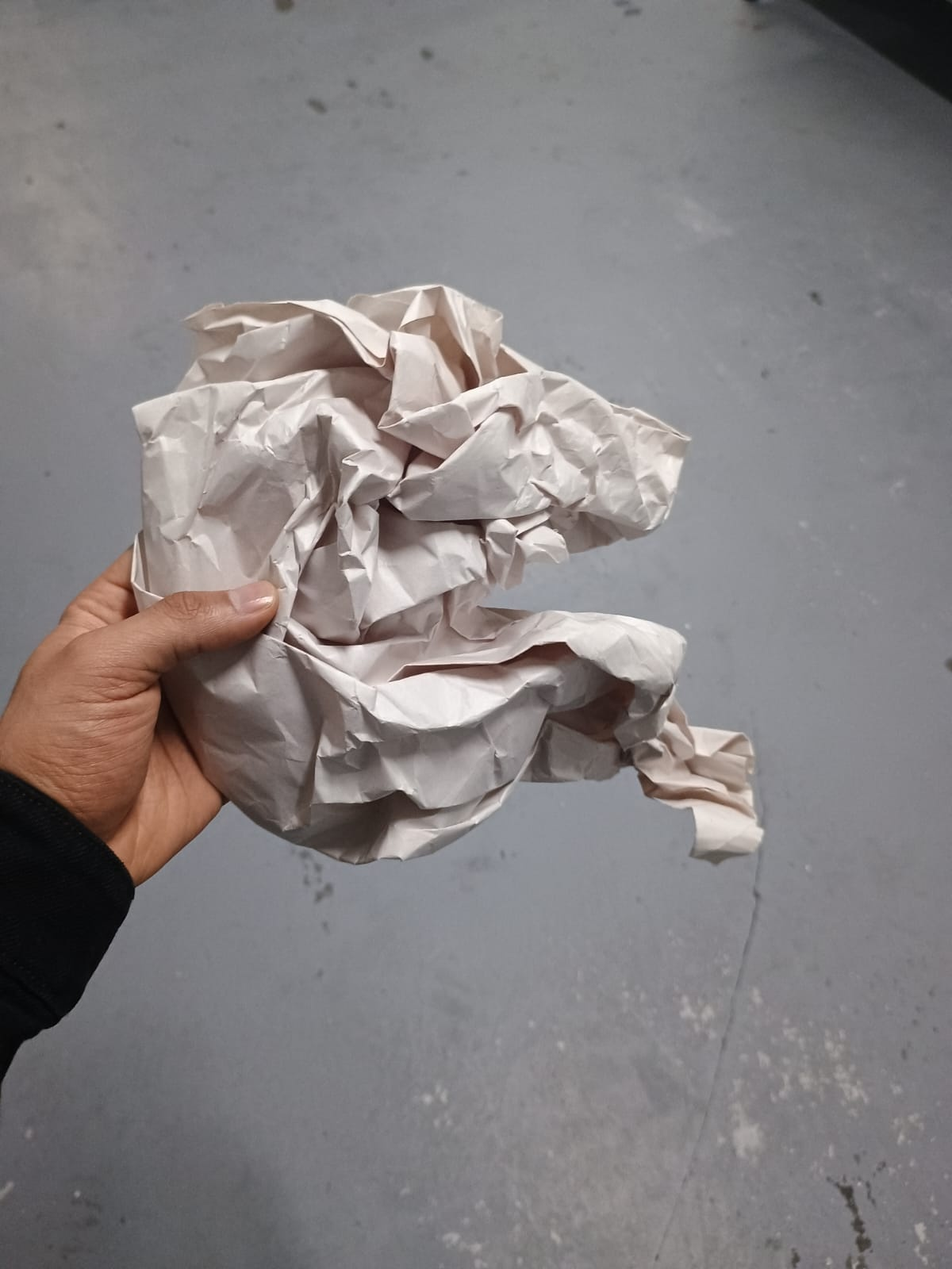Papel: (131, 287, 761, 867)
